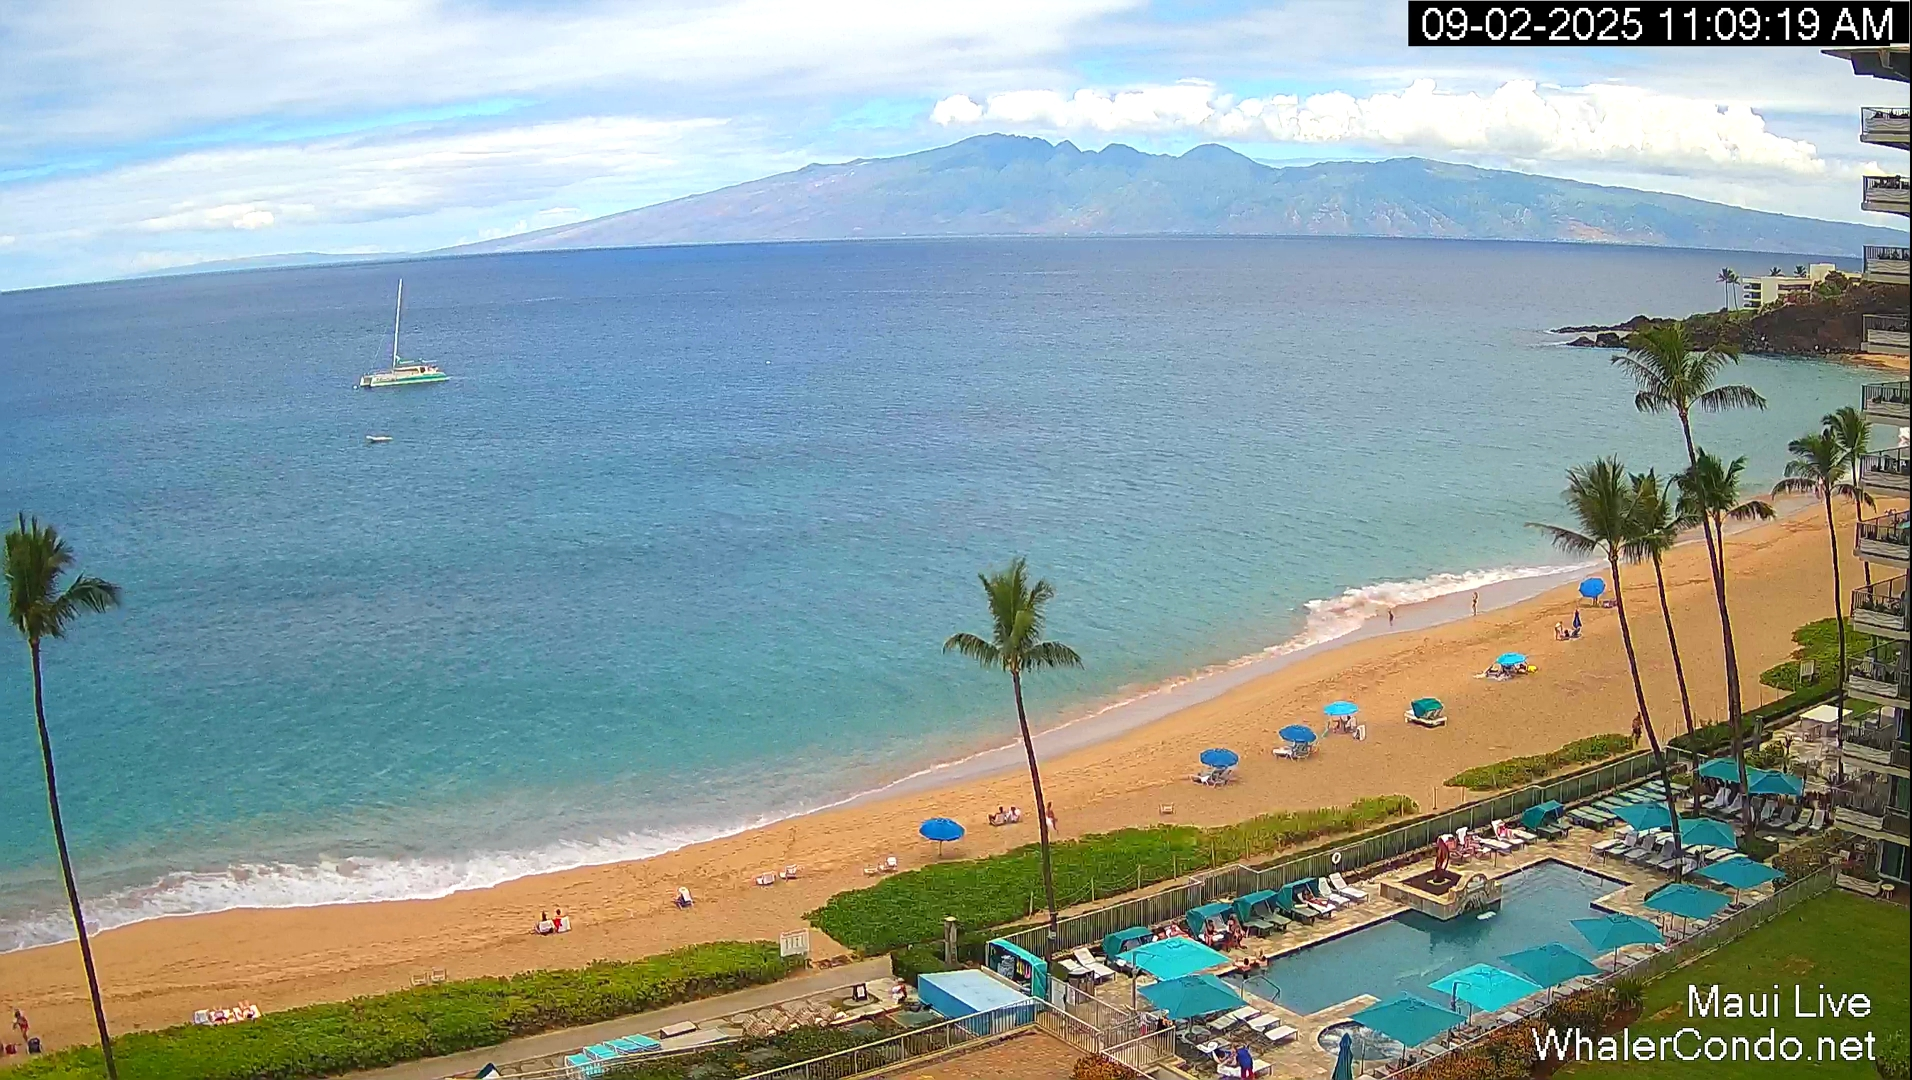boat: (358, 278, 449, 389), (480, 1032, 639, 1079), (563, 1032, 640, 1080), (756, 871, 776, 885)
person: (1236, 1045, 1254, 1080), (12, 1009, 30, 1041), (1045, 801, 1059, 833), (1631, 712, 1643, 745), (1571, 608, 1583, 636), (1006, 805, 1021, 823), (552, 908, 563, 932), (1471, 591, 1479, 616), (1554, 621, 1564, 640), (996, 806, 1006, 822), (1387, 609, 1395, 628), (554, 908, 562, 919)
